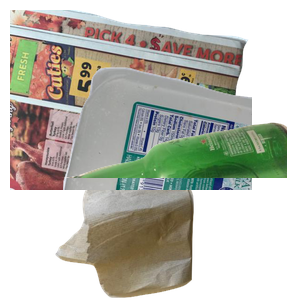glass: (60, 120, 300, 300)
paper: (10, 10, 250, 190)
plastic: (60, 65, 300, 245)
trash: (53, 121, 239, 300)
